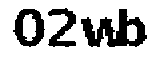0: (14, 7, 46, 49)
2: (45, 4, 80, 50)
b: (118, 5, 152, 51)
w: (80, 15, 118, 51)
